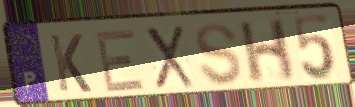5: (291, 12, 338, 84)
E: (93, 27, 148, 95)
H: (237, 16, 297, 87)
K: (47, 32, 94, 95)
S: (193, 21, 244, 88)
X: (141, 24, 196, 91)
